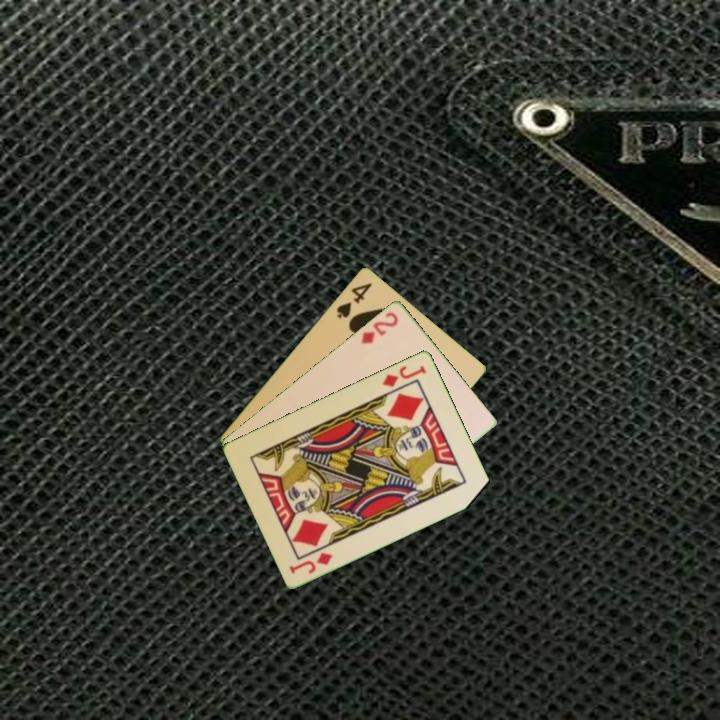2d: (358, 308, 401, 346)
4s: (333, 279, 375, 321)
Jd: (285, 548, 336, 577), (379, 361, 429, 389)
